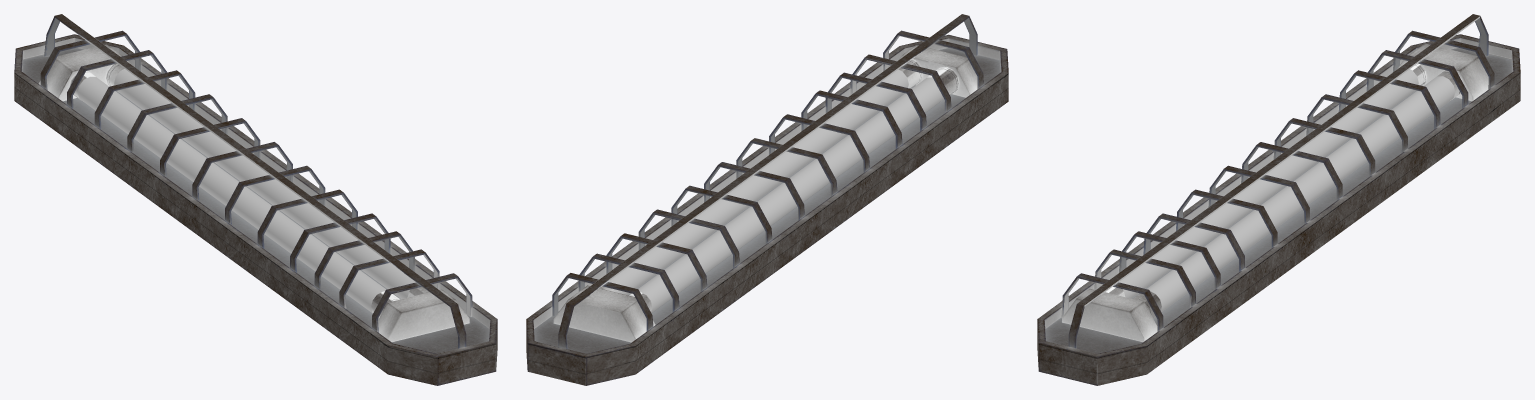
File: light-ceiling.glb
The picture shows the model from 3 angles, left to right: view 1: azimuth 30°, elevation 25°; view 2: azimuth 150°, elevation 25°; view 3: azimuth 330°, elevation 25°; orthographic projection.
Visible parts, largest first — view 1: Fixture_Base; view 2: Fixture_Base; view 3: Fixture_Base.
Part boxes in pixels (bbox=[...]): Fixture_Base: bbox=[14, 14, 497, 385]; Fixture_Base: bbox=[526, 14, 1008, 385]; Fixture_Base: bbox=[1037, 14, 1520, 385].
Size of the model in its own units: 0.12 by 0.0678 by 0.8.
Materials: 1 (1 with a texture image).
